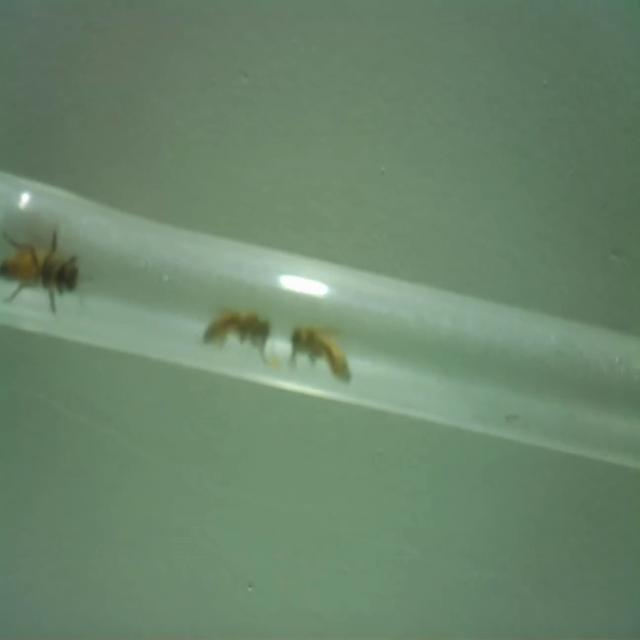Honeybee-Detection: (0, 227, 80, 314), (202, 305, 279, 367), (289, 323, 351, 383)
